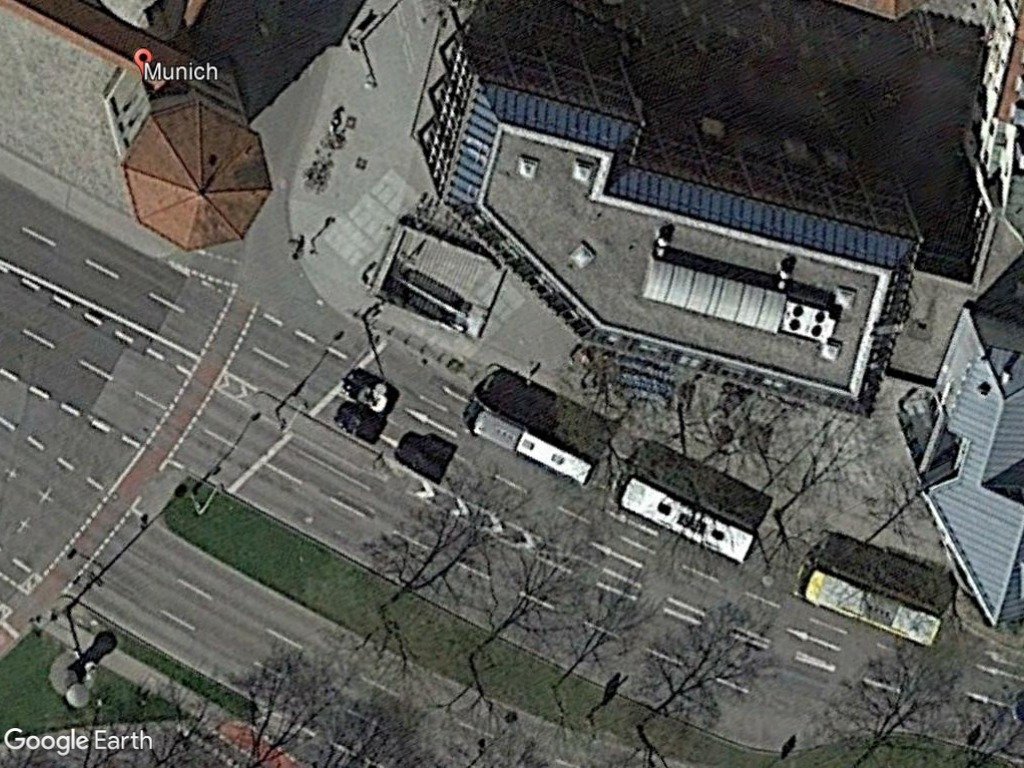bus: (612, 470, 763, 571), (792, 563, 948, 655), (461, 399, 600, 492)
